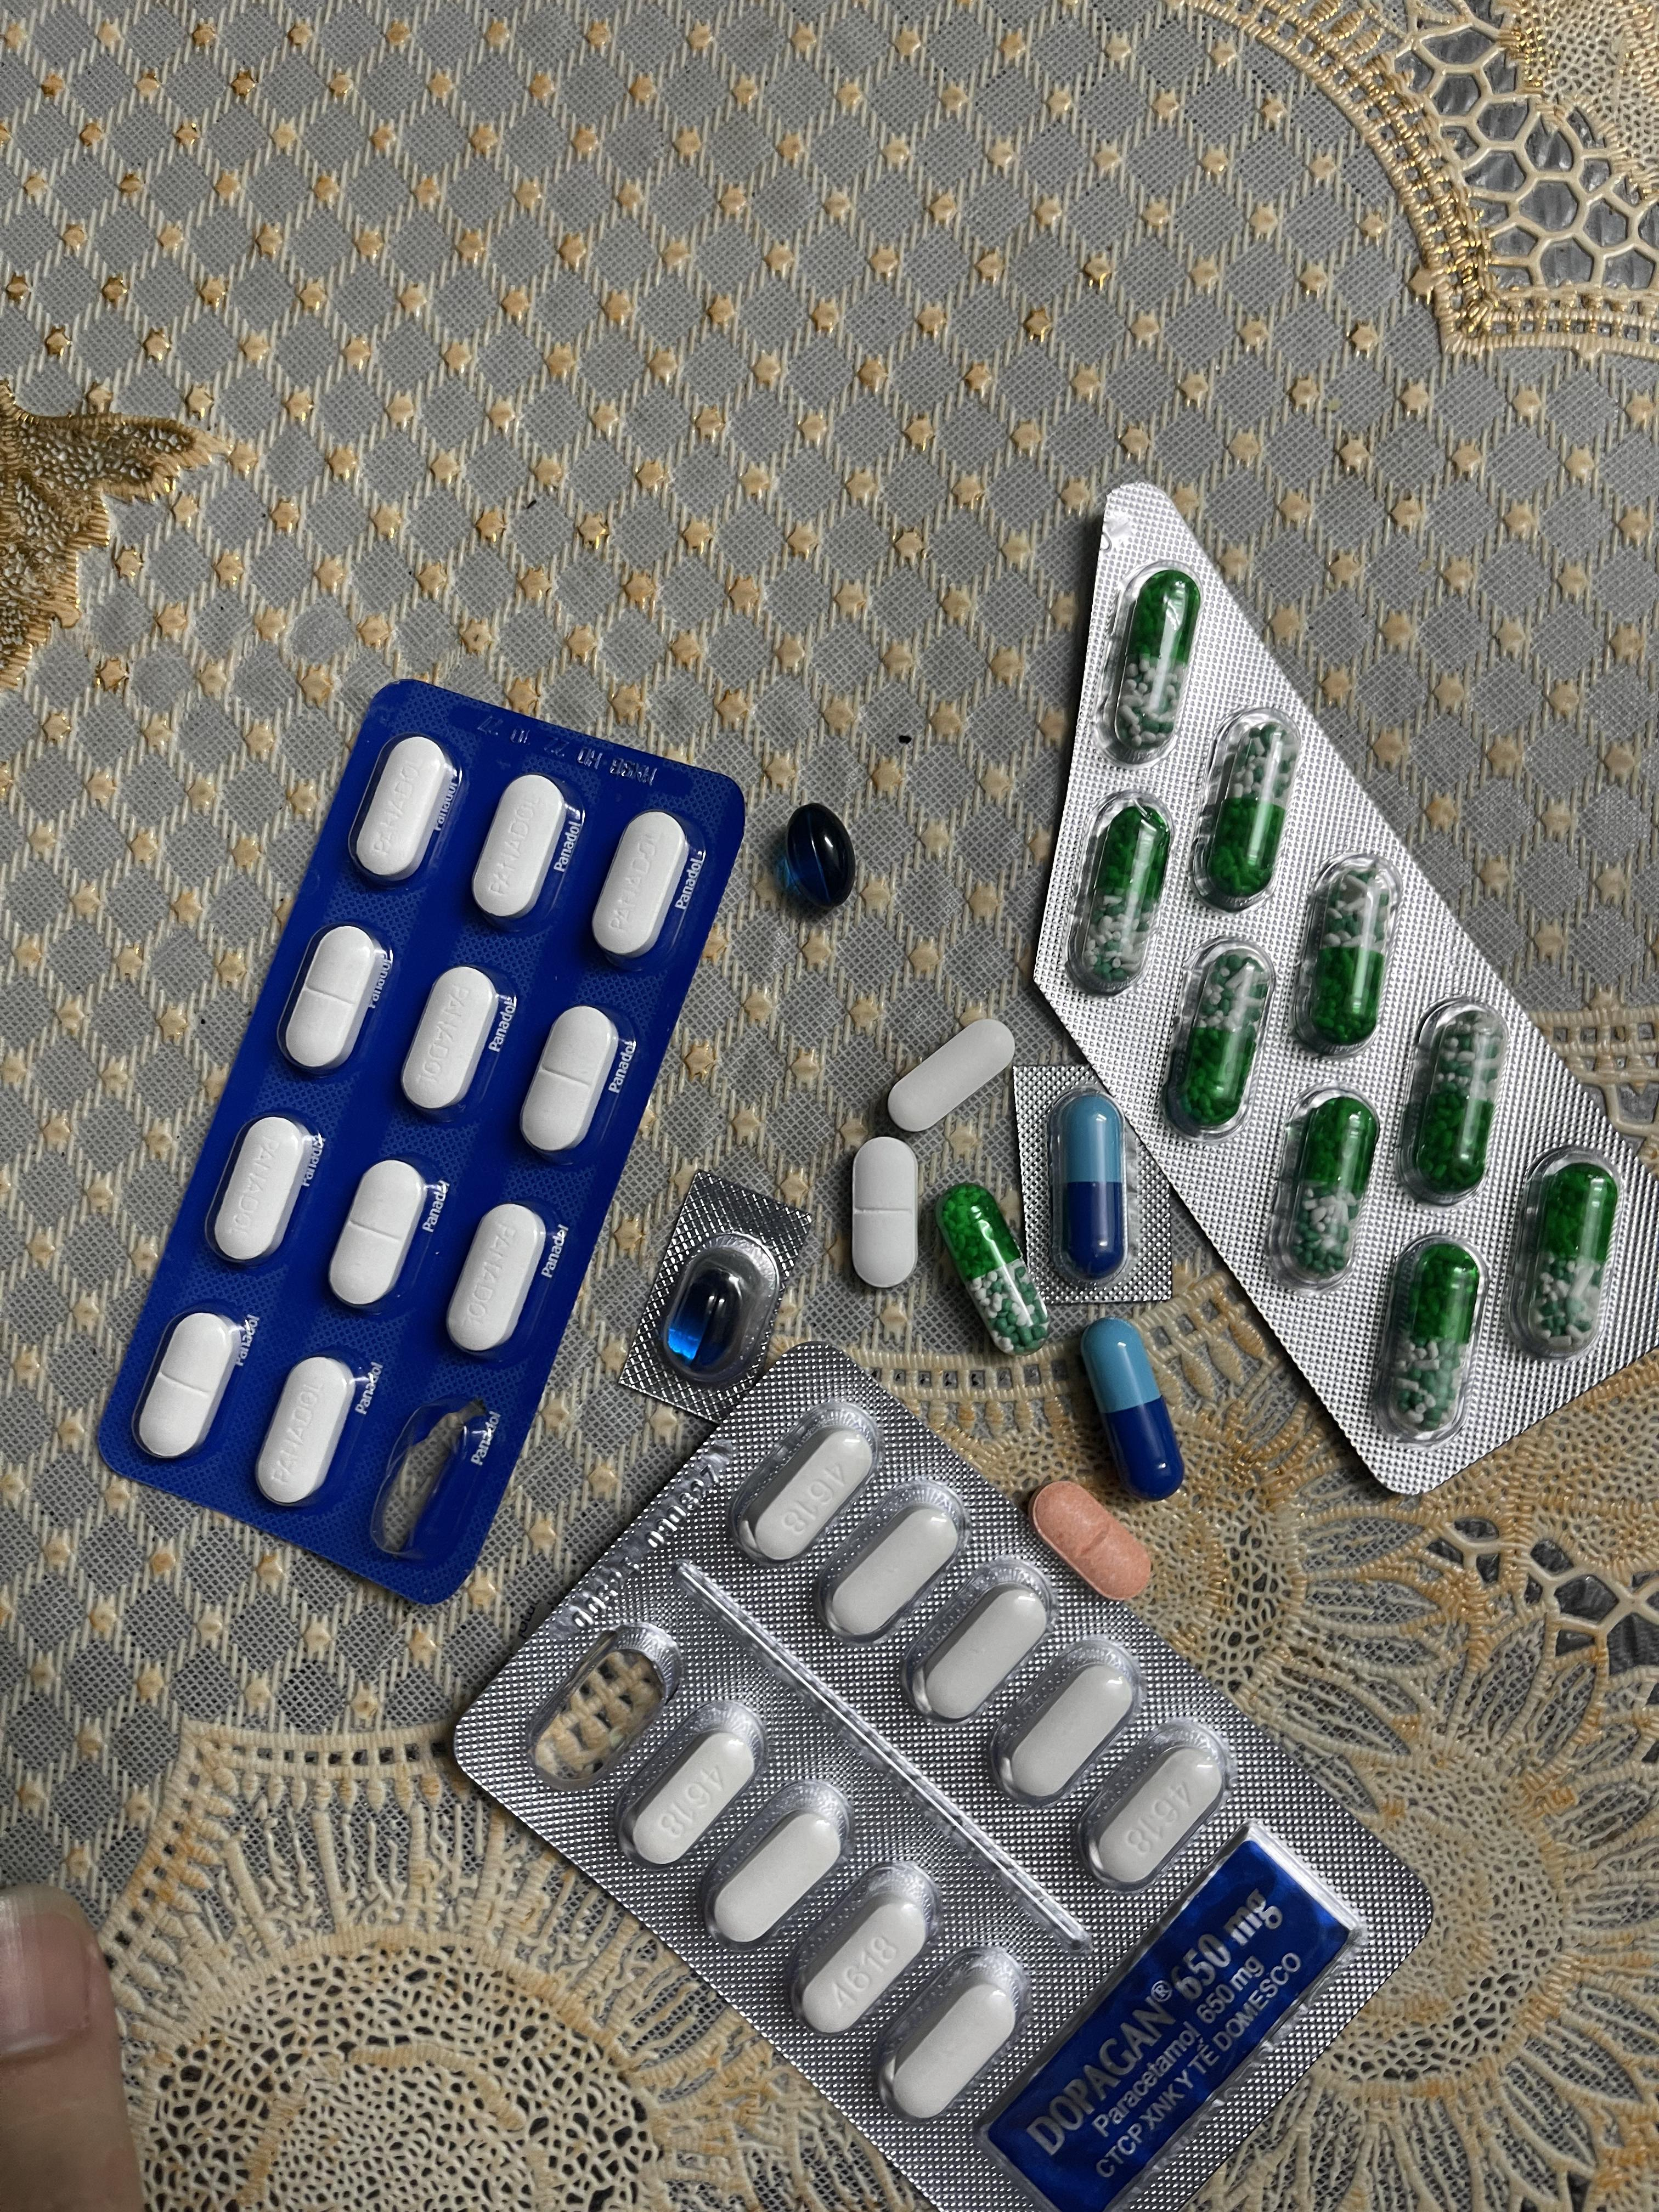Lincomyxin_500mg: (775, 804, 854, 910), (665, 1266, 741, 1365)
Loratadine_10mg: (1032, 1479, 1147, 1595)
Paracetamol_350mg: (136, 1310, 242, 1464), (445, 1202, 549, 1358), (211, 1113, 315, 1265), (281, 926, 384, 1080), (255, 1357, 357, 1510), (520, 1006, 620, 1158), (401, 967, 501, 1118), (591, 814, 691, 964), (353, 736, 455, 883), (329, 1156, 427, 1306), (471, 775, 569, 924), (851, 1137, 916, 1283)
Paracetamol_500mg: (618, 1702, 771, 1883), (789, 1855, 935, 2038), (911, 1561, 1058, 1724), (712, 1804, 844, 1955), (884, 1977, 1019, 2121), (1002, 1662, 1136, 1805), (828, 1504, 959, 1639), (1105, 1745, 1226, 1884), (746, 1430, 871, 1562), (885, 1017, 1014, 1130)
Paracetamol_650mg: (1509, 1152, 1624, 1358), (1371, 1237, 1480, 1443), (1269, 1089, 1381, 1287), (1288, 854, 1400, 1048), (1398, 1002, 1505, 1202), (1194, 713, 1301, 903), (1159, 944, 1267, 1130), (1070, 799, 1166, 991), (1103, 567, 1198, 759), (935, 1181, 1043, 1349)
pill: (1079, 1319, 1177, 1499), (1051, 1097, 1124, 1280)
